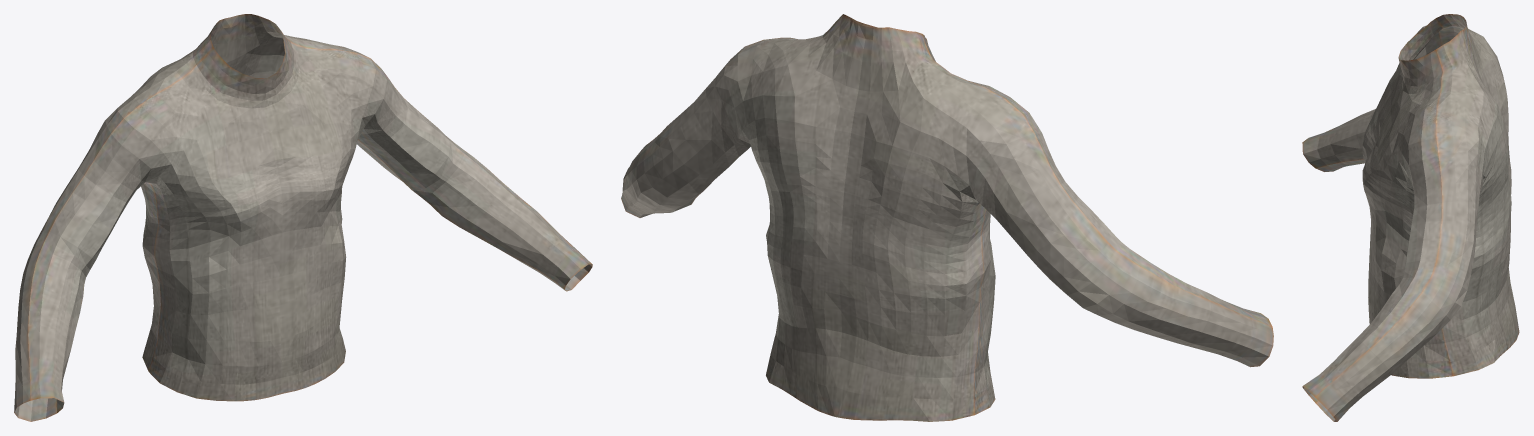
File: mhw_mindfront_knitted_sweater_01.glb
The picture shows the model from 3 angles, left to right: view 1: azimuth 30°, elevation 25°; view 2: azimuth 150°, elevation 25°; view 3: azimuth 270°, elevation 25°; orthographic projection. The views are drawn at different scales.
Parts seen in each view (by area): view 1: mhw_mindfront_knitted_sweater_01; view 2: mhw_mindfront_knitted_sweater_01; view 3: mhw_mindfront_knitted_sweater_01.
Part boxes in pixels (bbox=[...]): mhw_mindfront_knitted_sweater_01: bbox=[14, 14, 592, 421]; mhw_mindfront_knitted_sweater_01: bbox=[621, 14, 1273, 421]; mhw_mindfront_knitted_sweater_01: bbox=[1302, 14, 1519, 421].
Size of the model in its own units: 1.13 by 0.6417 by 0.3901.
1 material, 1 textured.
